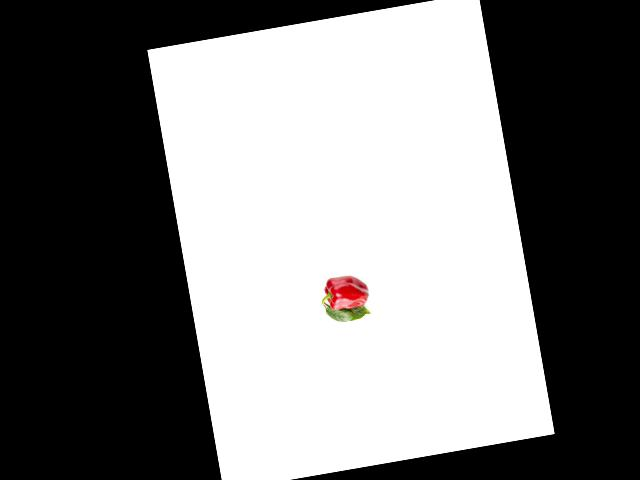bell_pepper: (317, 267, 373, 315)
